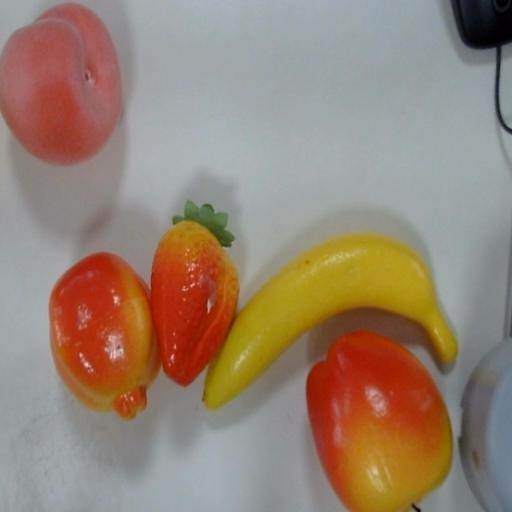Ripe: (217, 210, 477, 392), (303, 331, 452, 512), (1, 0, 131, 183), (41, 250, 161, 431), (154, 200, 239, 404)
